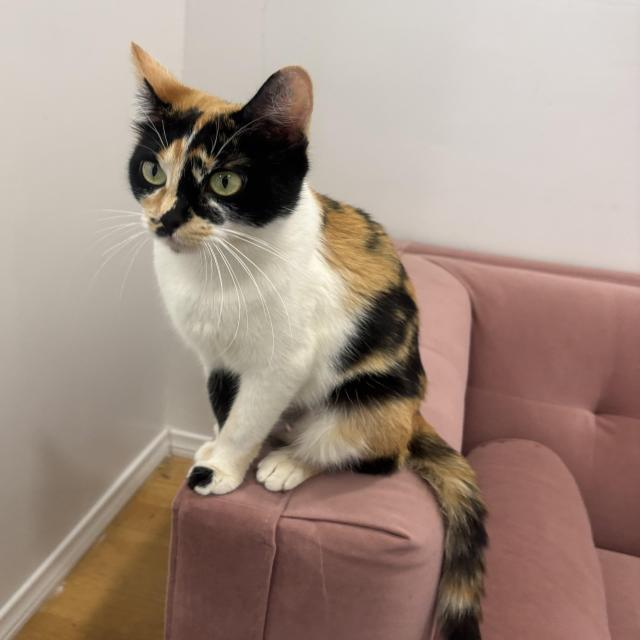calico_cat: (116, 39, 326, 280)
